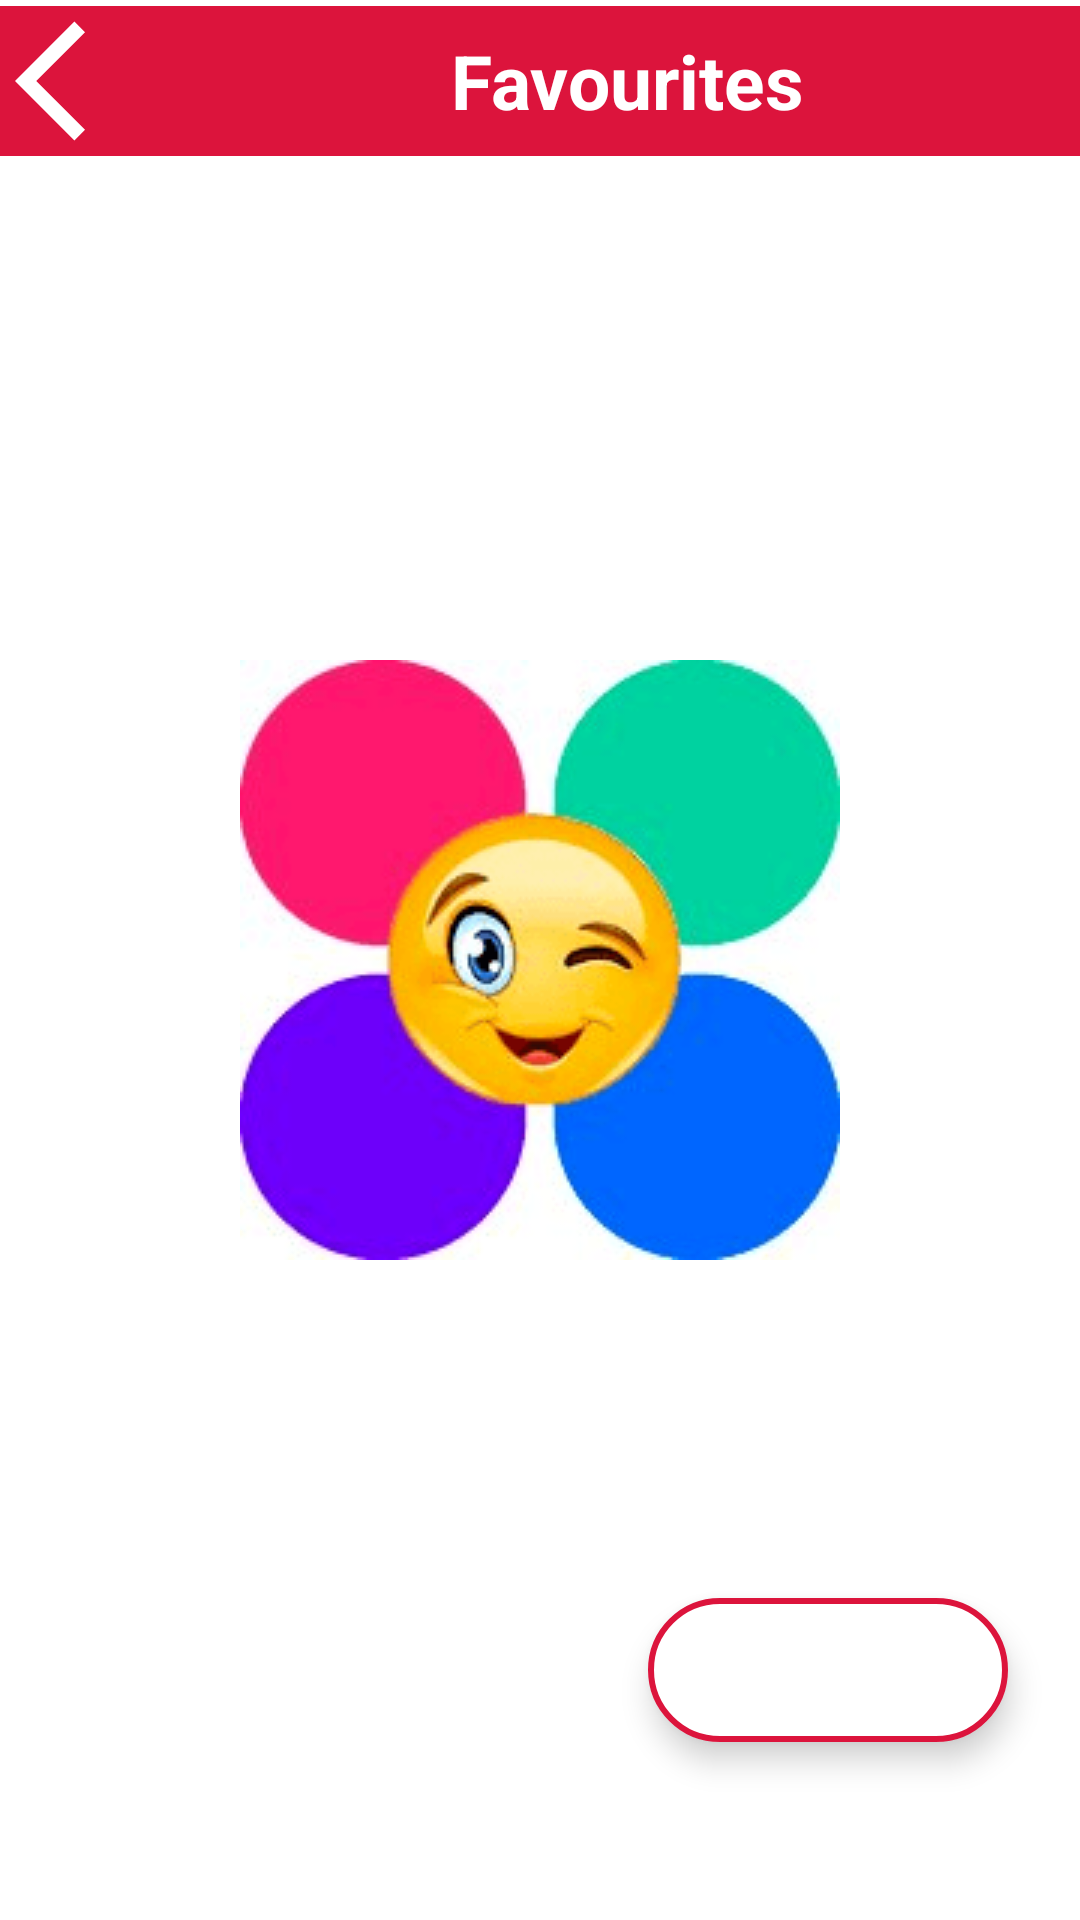

Icons on this 1080w x 1920h Android screen, each with the point to tap as [x,y]:
Back: [50,81]
